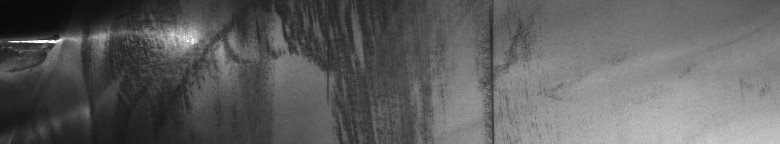ke: (34, 0, 364, 144)
